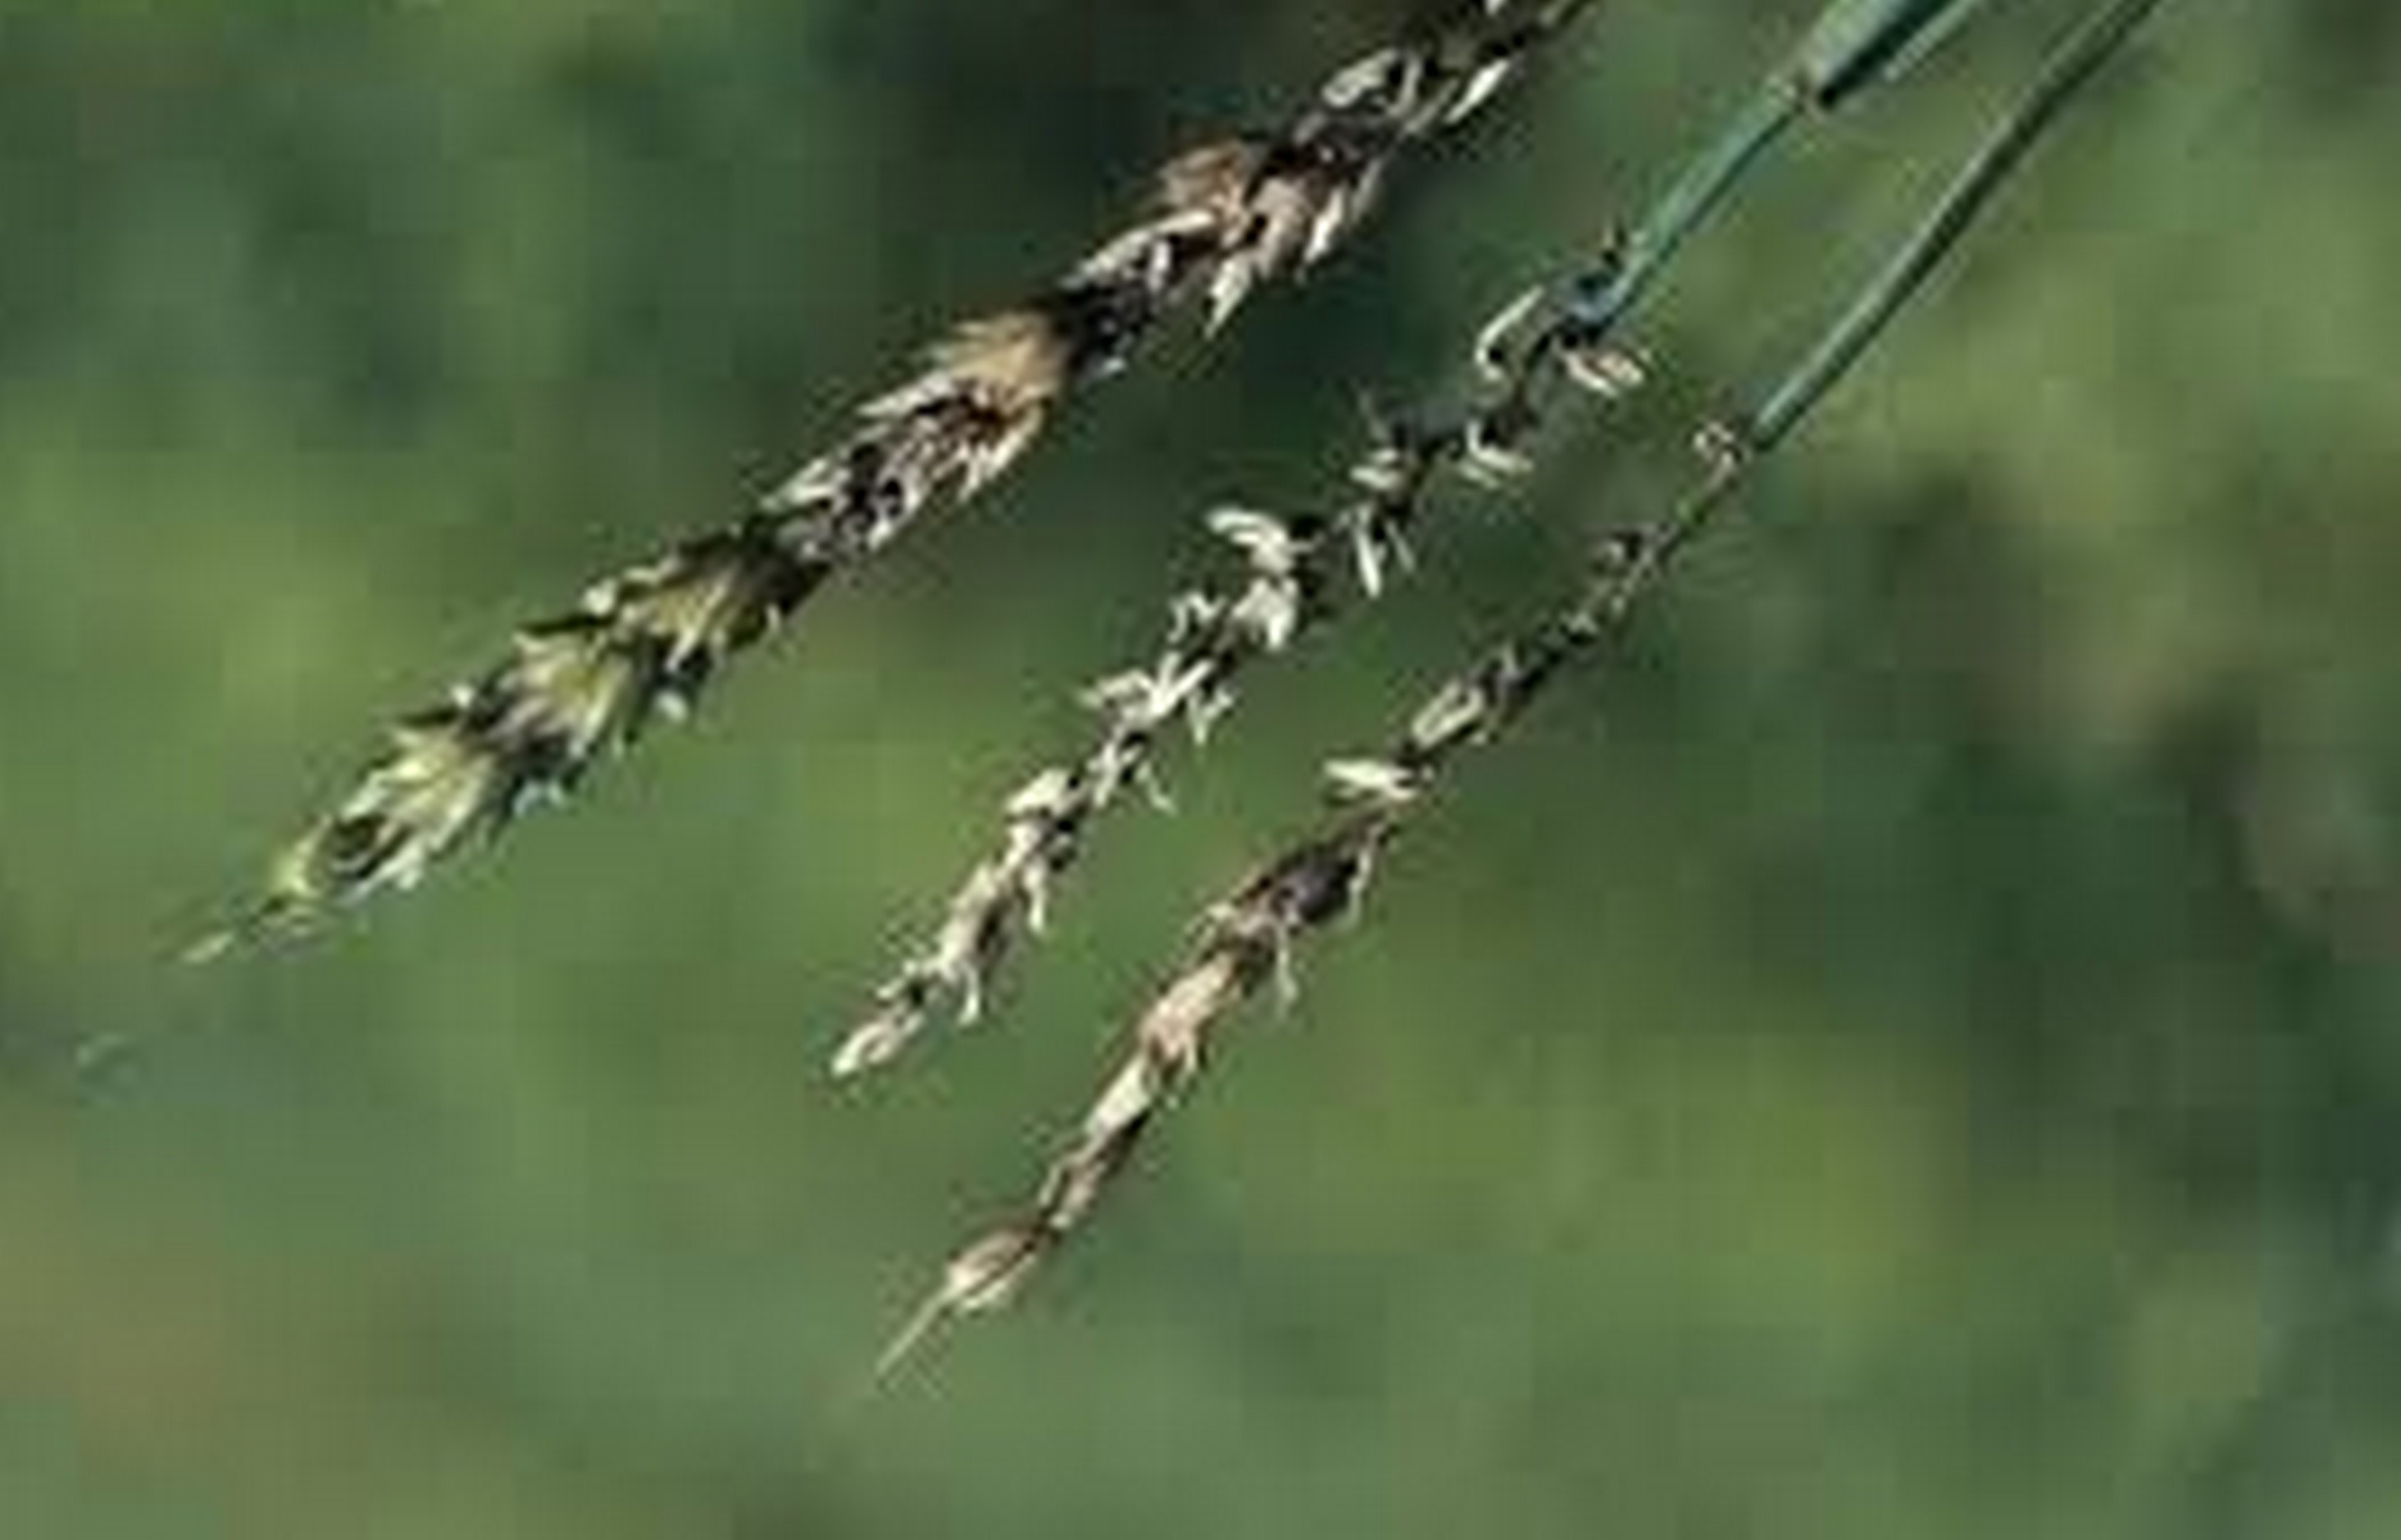Wheat Loose Smut: (336, 35, 1753, 1365)
